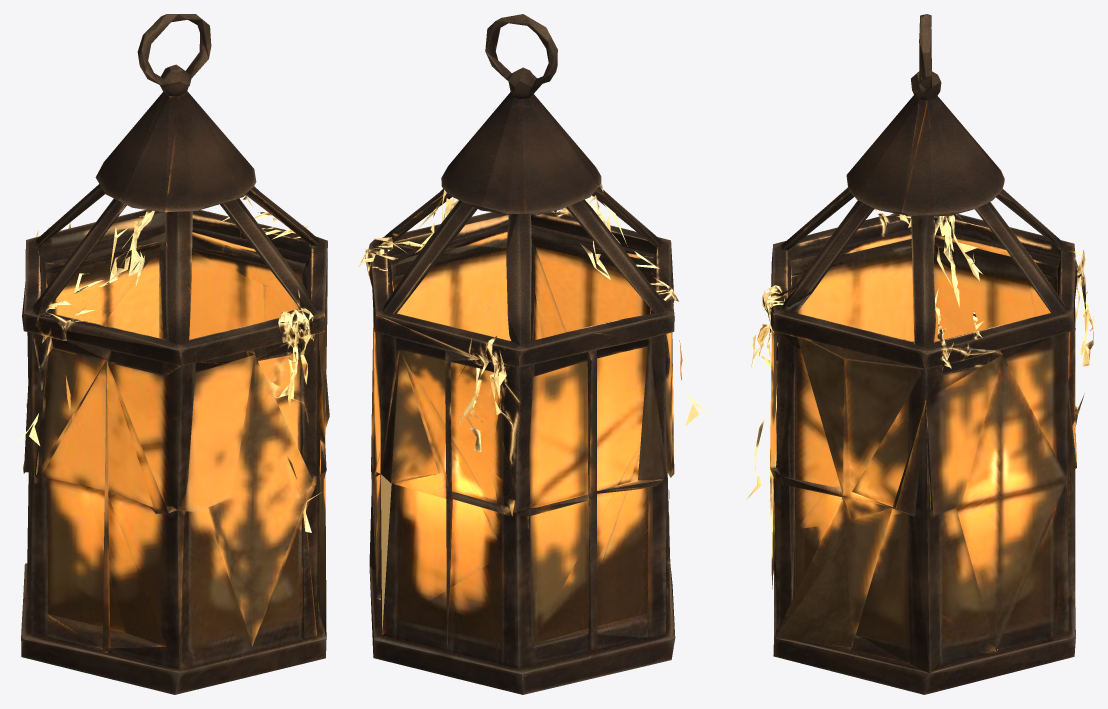
Rendered from sp_m_hanglantern.glb.
The picture shows the model from 3 angles, left to right: view 1: azimuth 30°, elevation 25°; view 2: azimuth 150°, elevation 25°; view 3: azimuth 270°, elevation 25°; orthographic projection.
Parts seen in each view (by area): view 1: Mesh_0; view 2: Mesh_0; view 3: Mesh_0.
Boxes of the visible parts, x1,y1,x2,y2 form: Mesh_0: (14, 14, 329, 694); Mesh_0: (358, 14, 713, 694); Mesh_0: (746, 14, 1093, 694).
Size of the model in its own units: 1.08 by 1.9 by 0.9925.
1 material, 1 textured.
